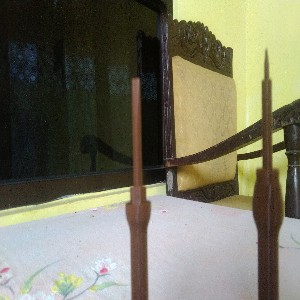obeng: (124, 76, 152, 300)
solder: (251, 47, 284, 300)
